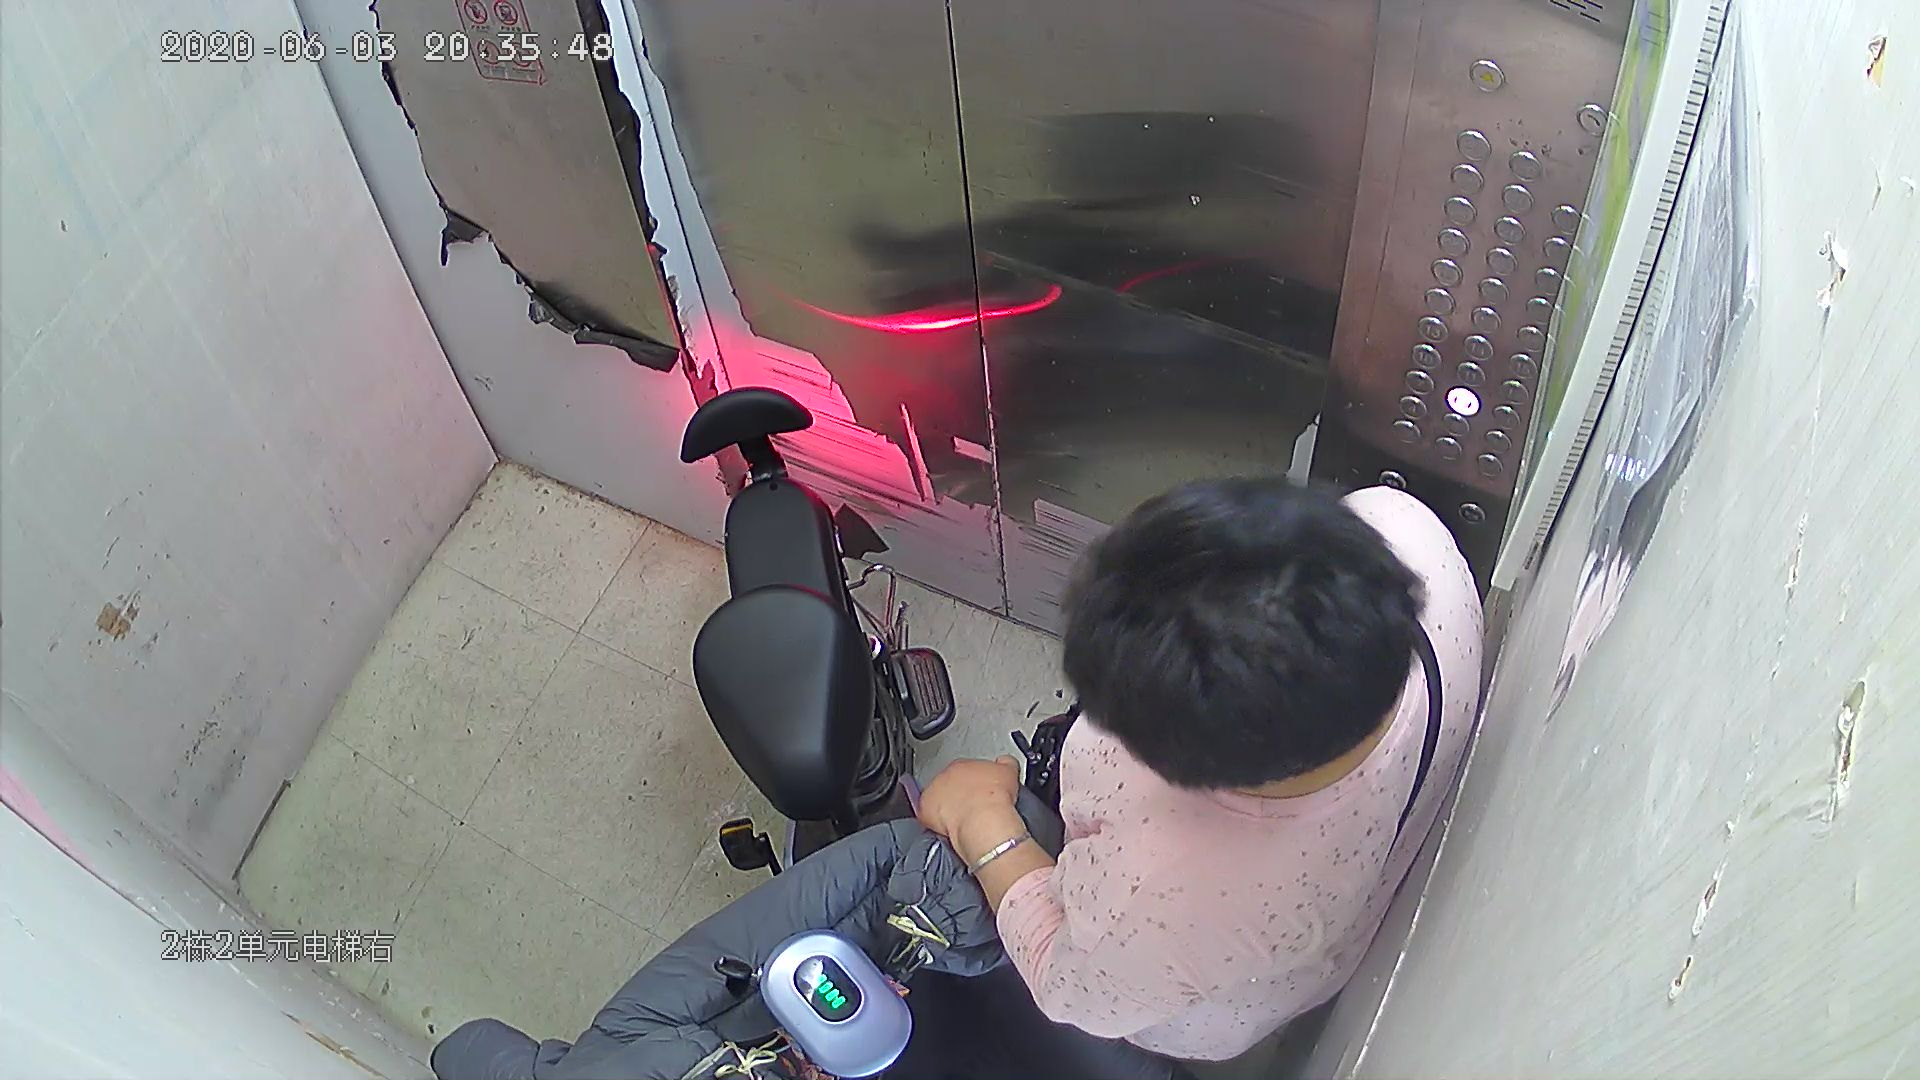Electric-bicycle: (676, 392, 993, 1080)
